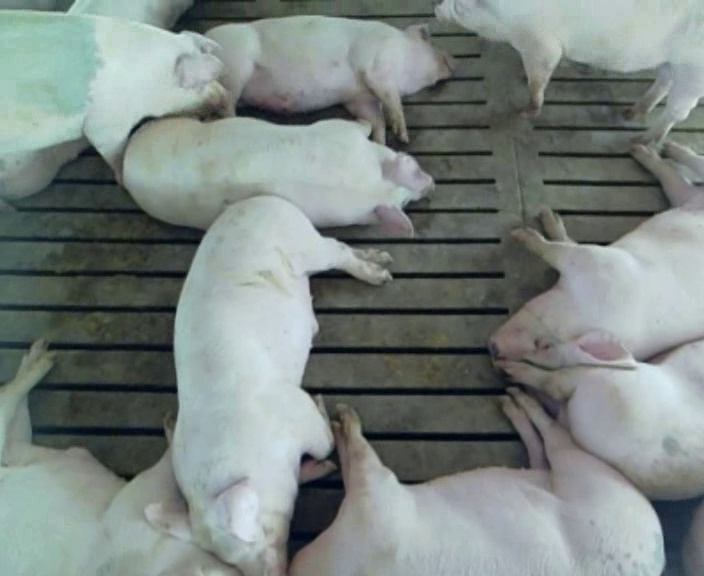pig: (143, 196, 390, 574), (290, 388, 663, 574), (0, 341, 237, 574), (436, 2, 703, 142), (123, 117, 433, 236), (495, 340, 703, 499), (207, 15, 453, 143), (0, 136, 88, 198), (68, 1, 192, 28)
